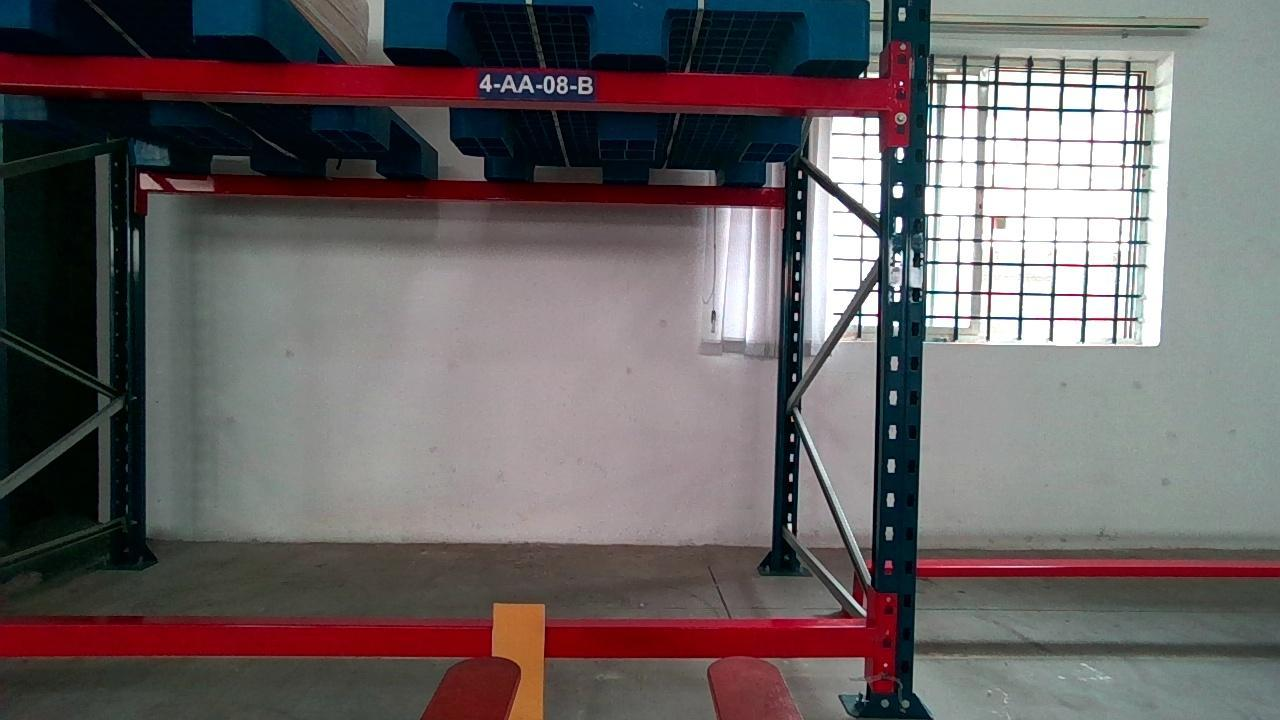h_rack: (2, 54, 896, 109), (1, 625, 870, 657)
orange_strip: (497, 602, 545, 718)
small_pallet: (384, 0, 869, 64)
